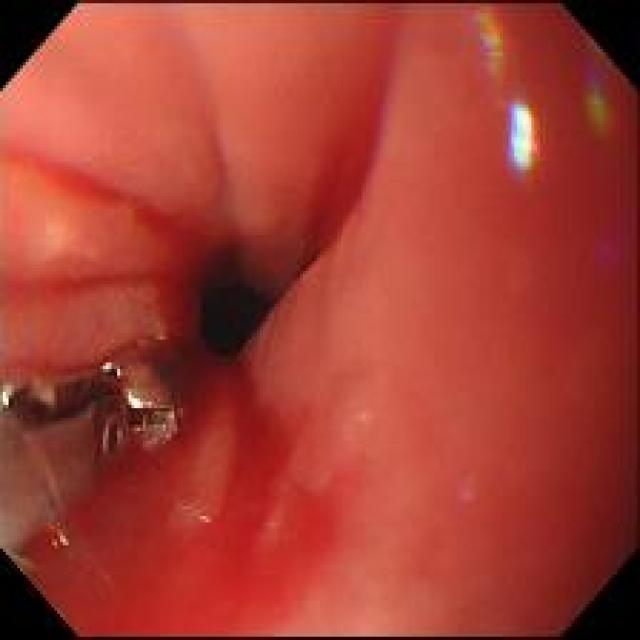color misalignment: (469, 8, 510, 73), (511, 104, 542, 175), (589, 90, 617, 139), (46, 530, 69, 549), (83, 493, 102, 501)
contrast: (186, 250, 288, 360)
instrument: (2, 359, 177, 553)
specularity: (102, 363, 123, 378), (2, 390, 10, 407), (130, 396, 143, 405)
